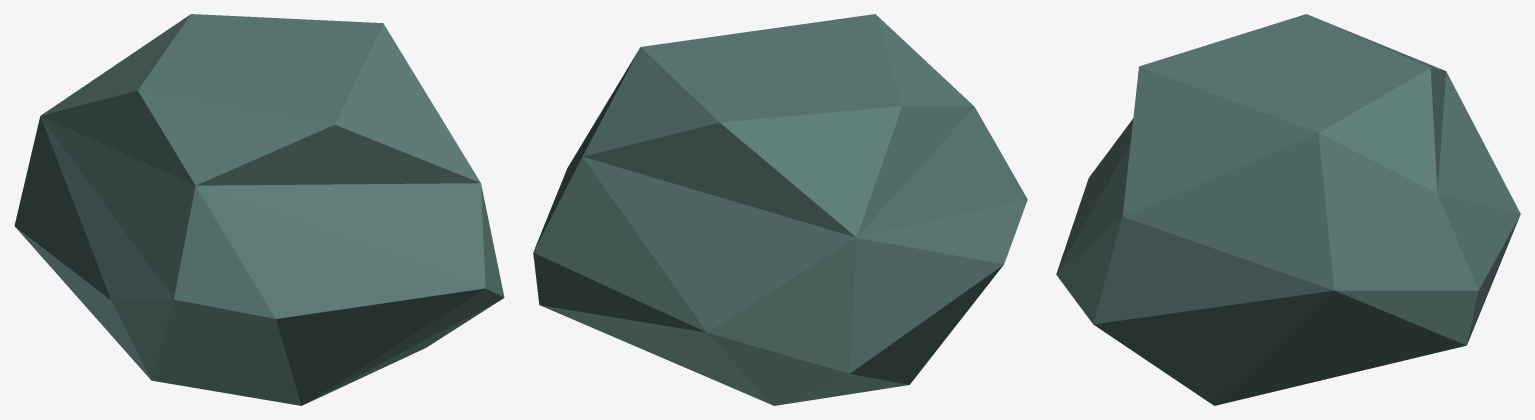
The picture shows the model from 3 angles, left to right: view 1: azimuth 30°, elevation 25°; view 2: azimuth 150°, elevation 25°; view 3: azimuth 270°, elevation 25°; orthographic projection. The views are drawn at different scales.
Parts seen in each view (by area): view 1: 石头5; view 2: 石头5; view 3: 石头5.
Boxes of the visible parts, x1,y1,x2,y2 form: 石头5: (14, 14, 504, 405); 石头5: (533, 14, 1027, 405); 石头5: (1056, 14, 1520, 405).
Size of the model in its own units: 24.7 by 17.85 by 26.72.
